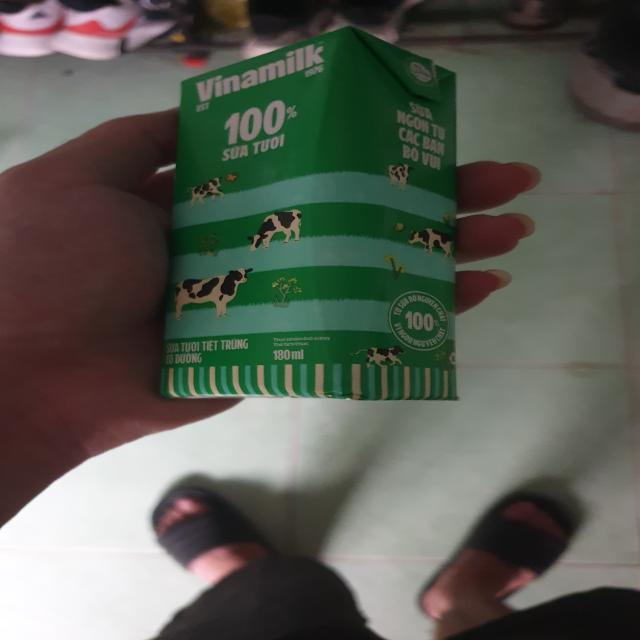Vina: (155, 25, 464, 403)
